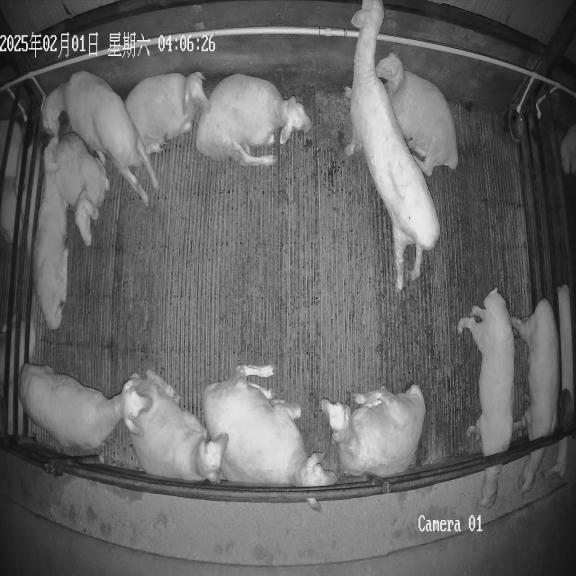drinking: (41, 71, 158, 204)
eating: (458, 288, 514, 507), (510, 298, 561, 492)
lying: (203, 365, 337, 486), (126, 370, 228, 483), (196, 74, 311, 166), (376, 53, 458, 176), (322, 385, 425, 478), (125, 72, 209, 154), (34, 138, 69, 330), (55, 134, 109, 246)
stand: (346, 0, 439, 291), (19, 364, 152, 450)
